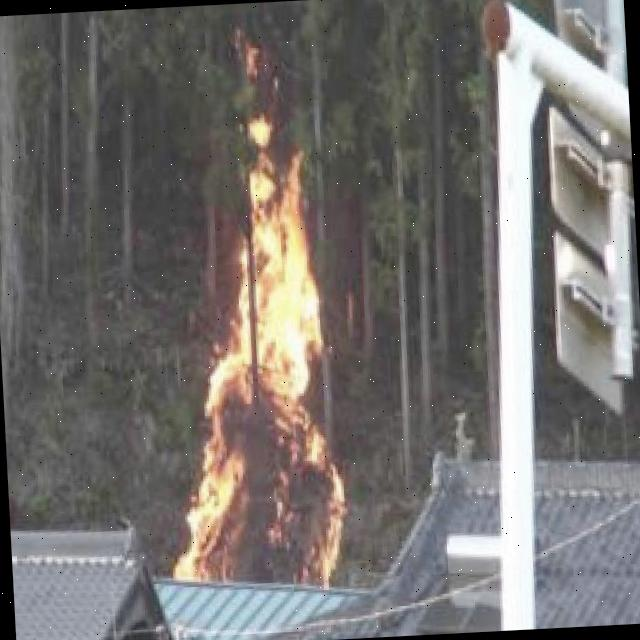fire: (153, 145, 350, 593)
